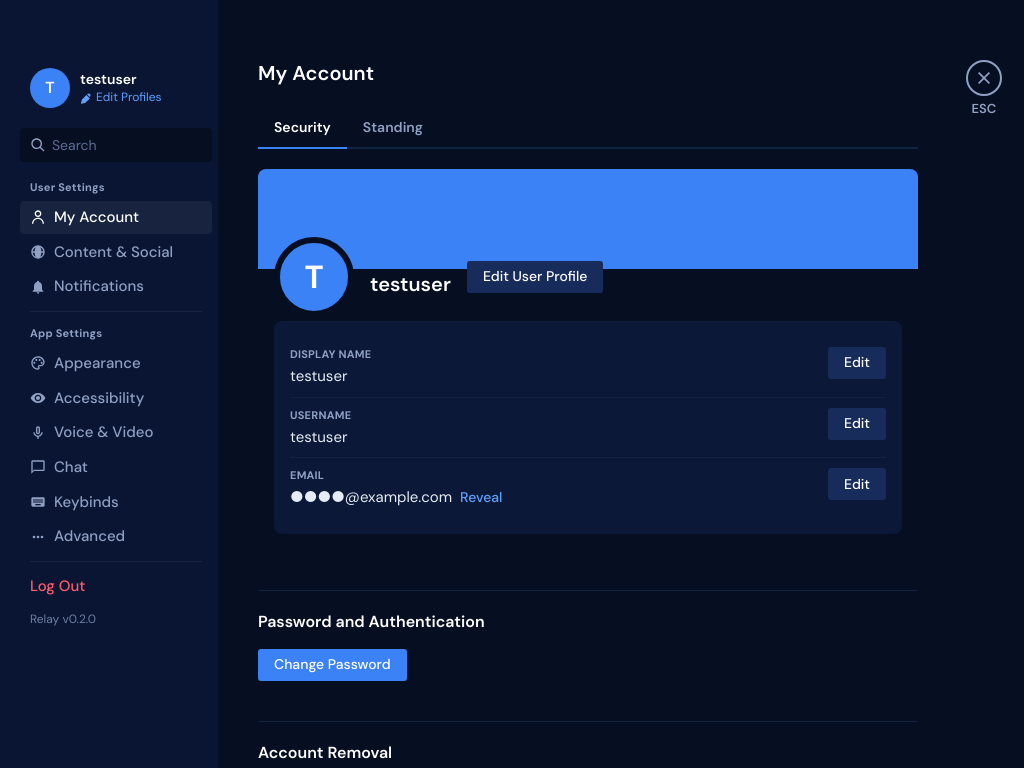
Test: UserSettings › shows Notifications section with toggle switches
Click the button "Notifications": (116, 287) [20,270,212,303]
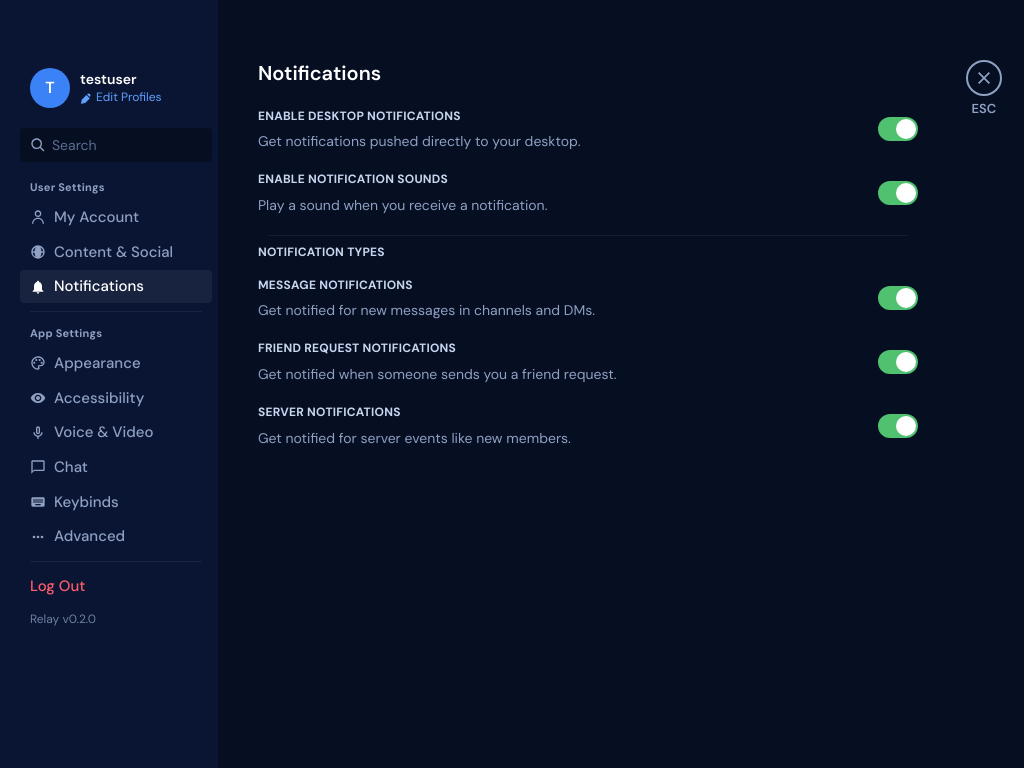
Expected: the switch named "Enable desktop notifications" is shown, [878,117,918,141]
Expected: the switch named "Enable notification sounds" is shown, [878,181,918,205]
